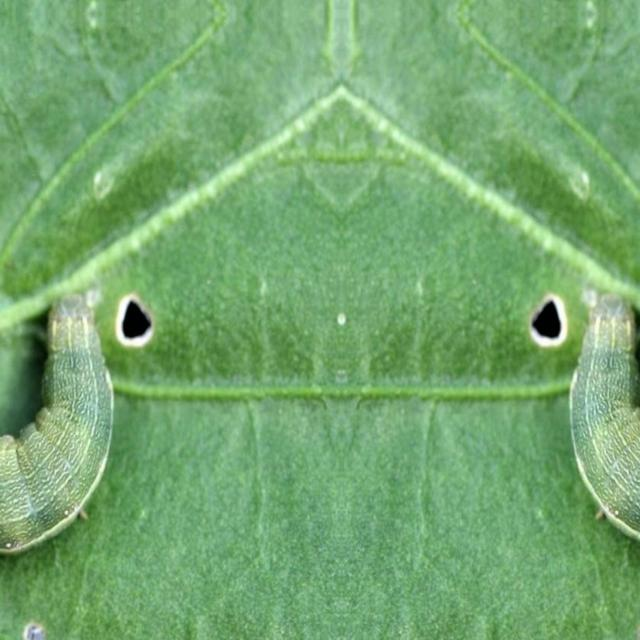armyworm: (0, 291, 114, 556), (568, 288, 640, 545)
